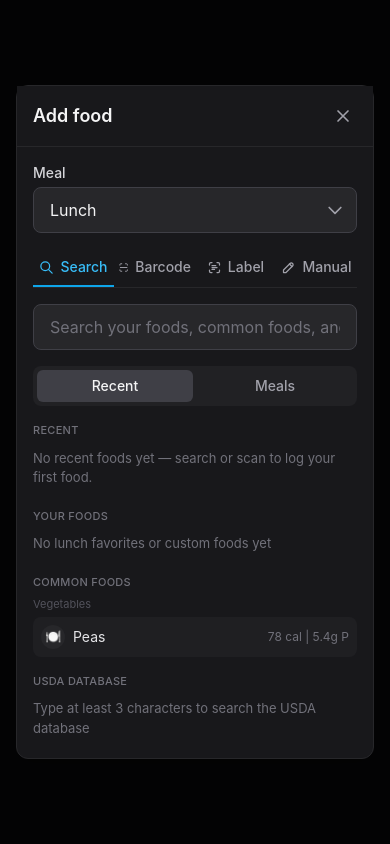
Test: weight food — editable amount at add time › lets you tap a quick-amount chip instead of typing
What coordinates should you click on to do the following:
click the text "Peas"
I would click on:
 (89, 636)
Its box is [73, 626, 105, 646].
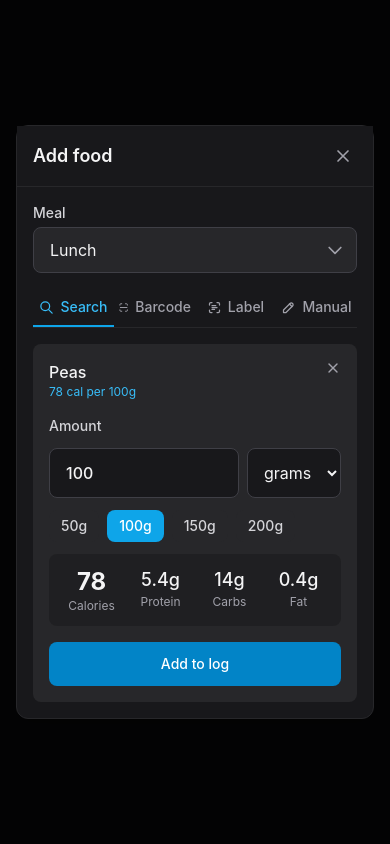
What coordinates should you click on to do the following:
click the button "200g"
I would click on:
 (265, 526)
Its box is [236, 510, 295, 542].
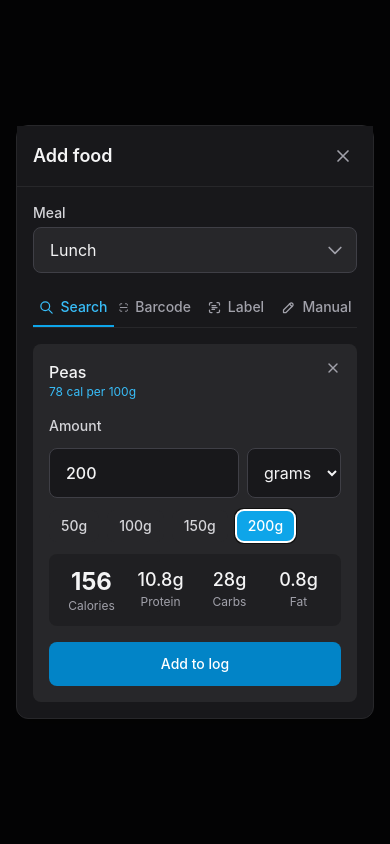
Expected: the text with test id "add-food-preview-calories" reads "156", [71, 567, 112, 596]
